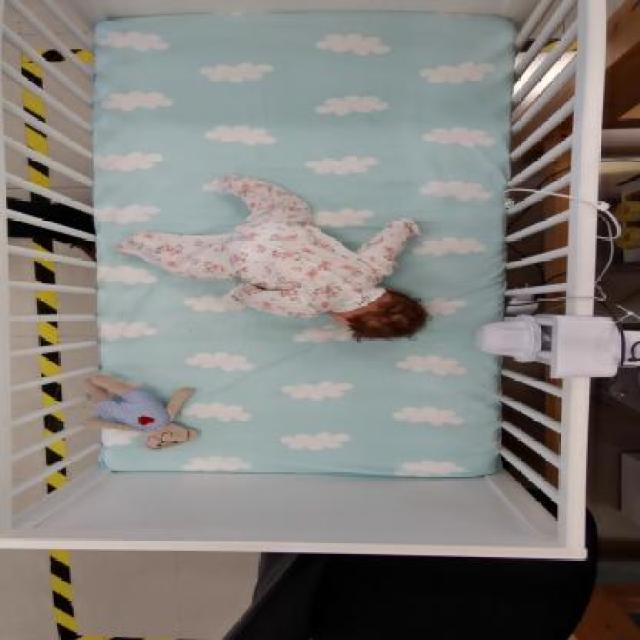baby: (115, 171, 432, 341)
